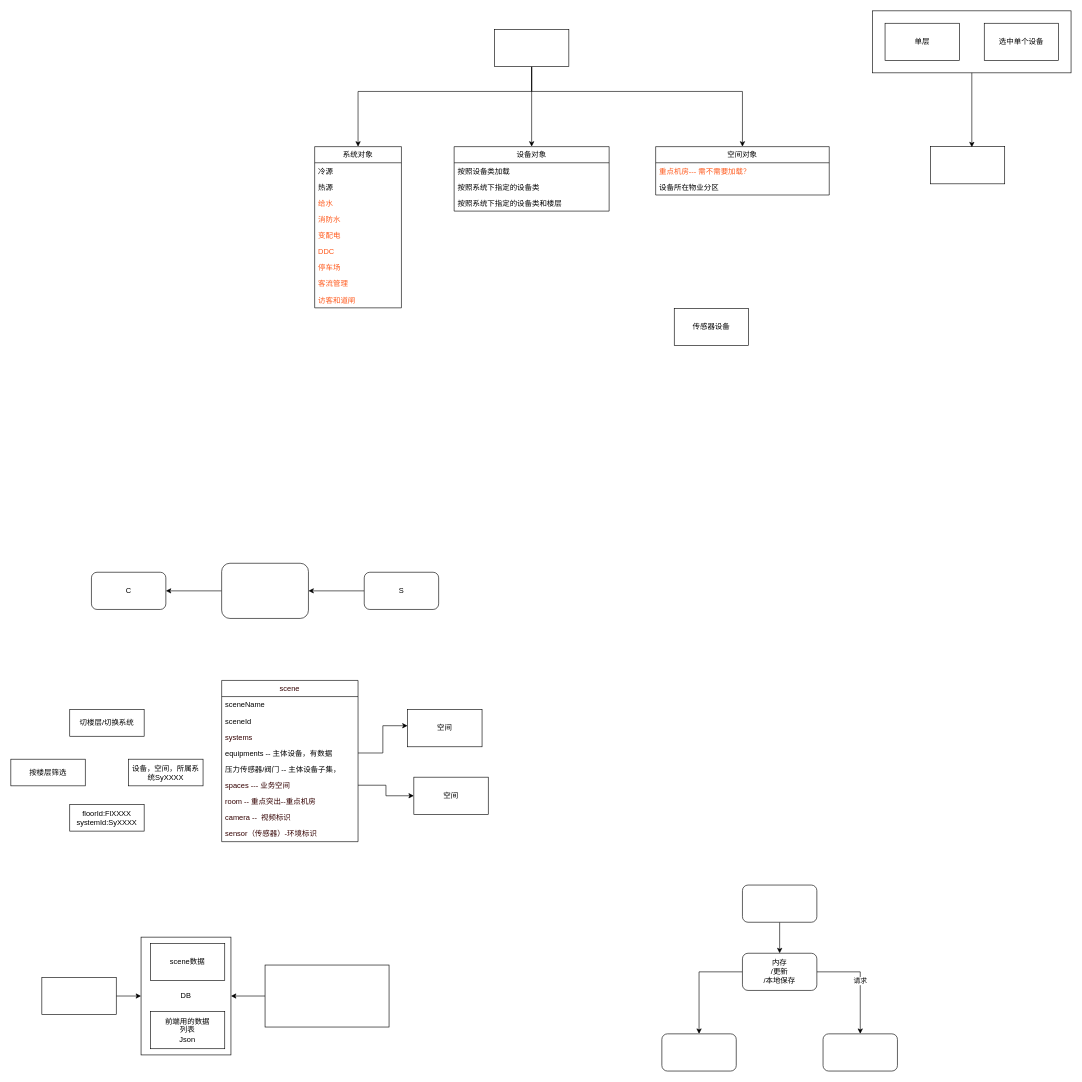
The diagram is 1082 pixels wide and 1082 high, and some of its shapes have lost their labels. The centre of each missing label's shape, as x and y in pixels:
"Page" goes at point 779,903.
"U3D Cache 更新, 启动服务更新本地缓存 设备,环境 XXXService DataMeditor" goes at point 264,590.
"云端" goes at point 859,1052.
"全局" goes at point 531,48.
"前端 key--object // key==value sql--page/组件" goes at point 326,995.
"本地" goes at point 698,1052.
"本层的摄像头" goes at point 967,165.
"计算程序" goes at point 78,996.
